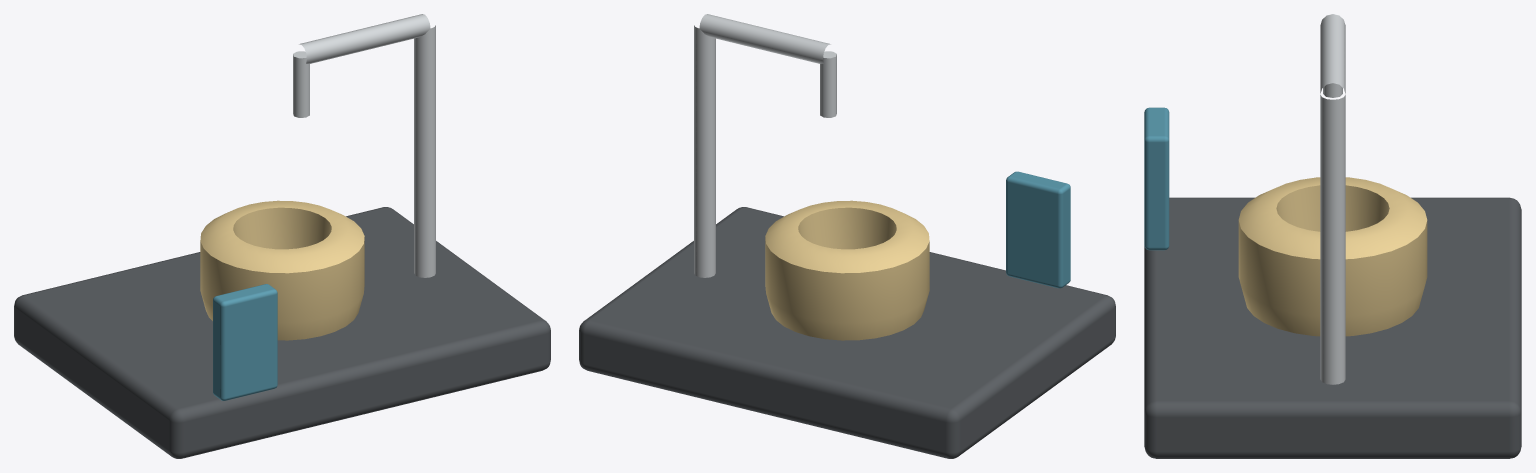
File: geotechnical-soil-testing-laboratory-liquid-limit-cup--42d8fcaa__39059.glb
The picture shows the model from 3 angles, left to right: view 1: azimuth 30°, elevation 25°; view 2: azimuth 150°, elevation 25°; view 3: azimuth 270°, elevation 25°; orthographic projection. The views are drawn at different scales.
Visible parts, largest first — view 1: liquid-limit-cup-device; view 2: liquid-limit-cup-device; view 3: liquid-limit-cup-device.
Part boxes in pixels (x1,y1,x2,y2): liquid-limit-cup-device: (14, 14, 550, 458); liquid-limit-cup-device: (579, 14, 1115, 458); liquid-limit-cup-device: (1144, 14, 1521, 458).
Bounding box in the file's own units: 0.4 × 0.31 × 0.3.
